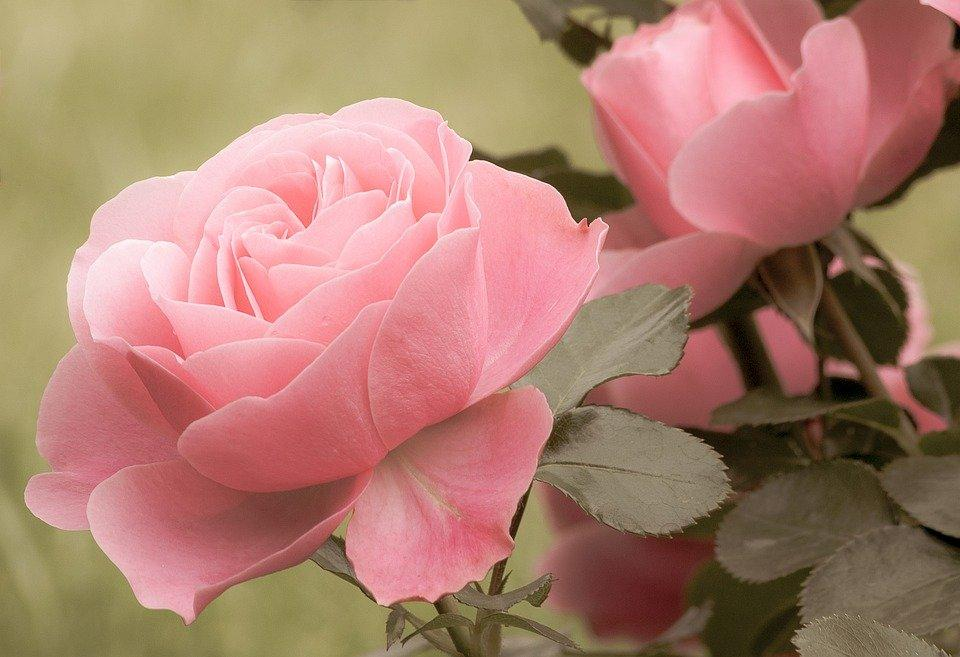Rose: (23, 96, 610, 613), (553, 2, 959, 362)
